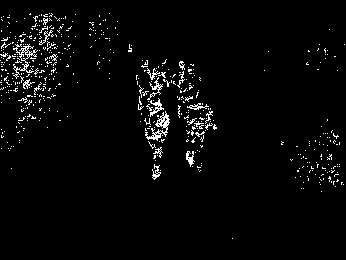person: (179, 93, 219, 178), (138, 93, 172, 185)
